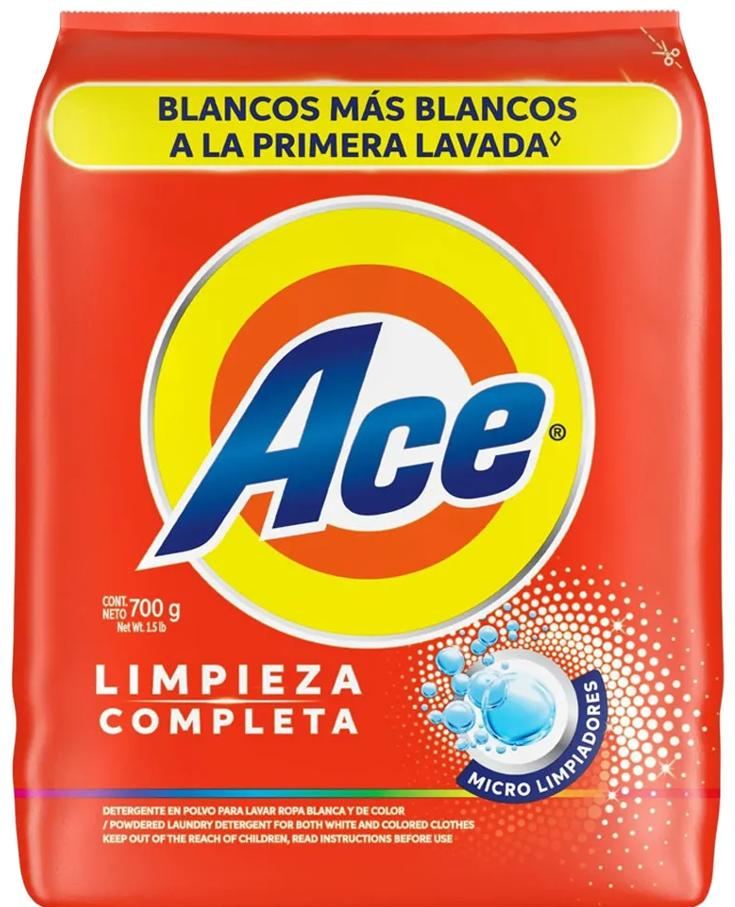brand: (106, 295, 568, 574)
extra_detail: (86, 655, 375, 742)
net_weight: (128, 594, 188, 629)
